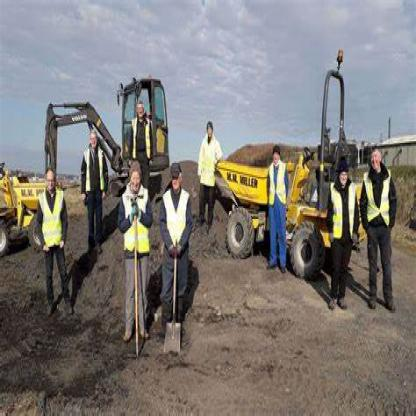person: (33, 160, 78, 327), (360, 136, 398, 316), (159, 158, 192, 357), (117, 149, 148, 360), (263, 135, 295, 287), (331, 146, 353, 323), (78, 119, 105, 250), (197, 112, 223, 244), (132, 96, 155, 166)
